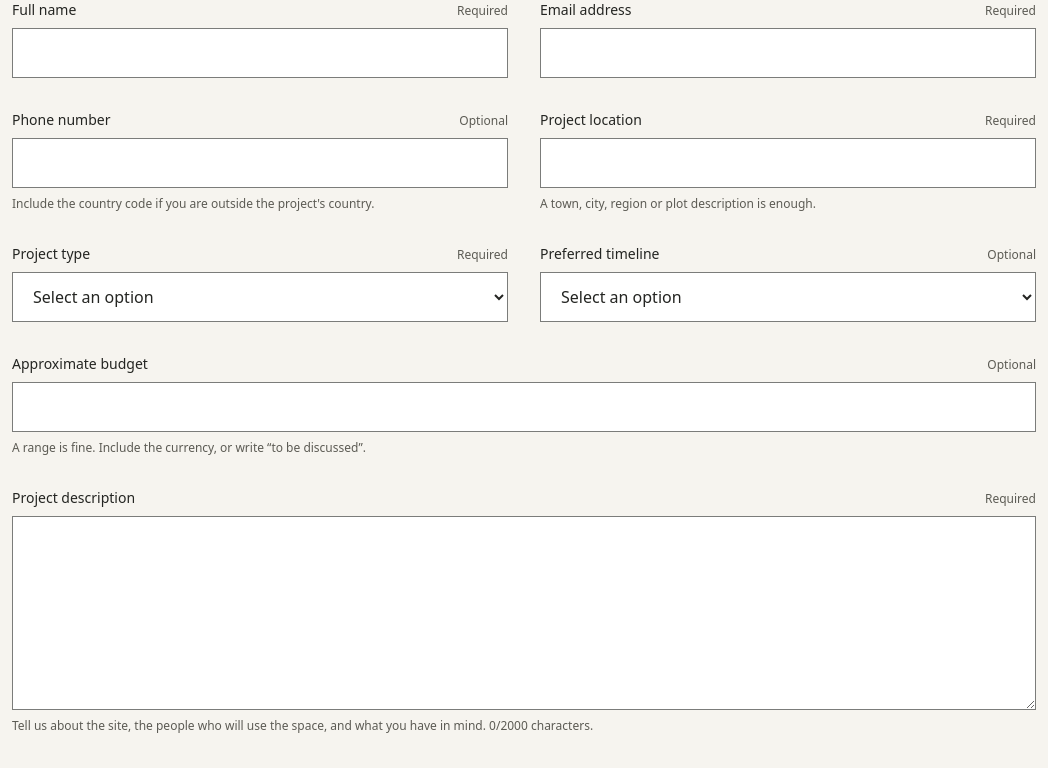
ContactForm with a submission service › reports a network failure honestly
Type "Amina Otieno" into the field labelled "Full name Required". click: [260, 53]
box: [12,28,508,78]
Type "amina@example.com" into the field labelled "Email address Required". click: [788, 53]
box: [540,28,1036,78]
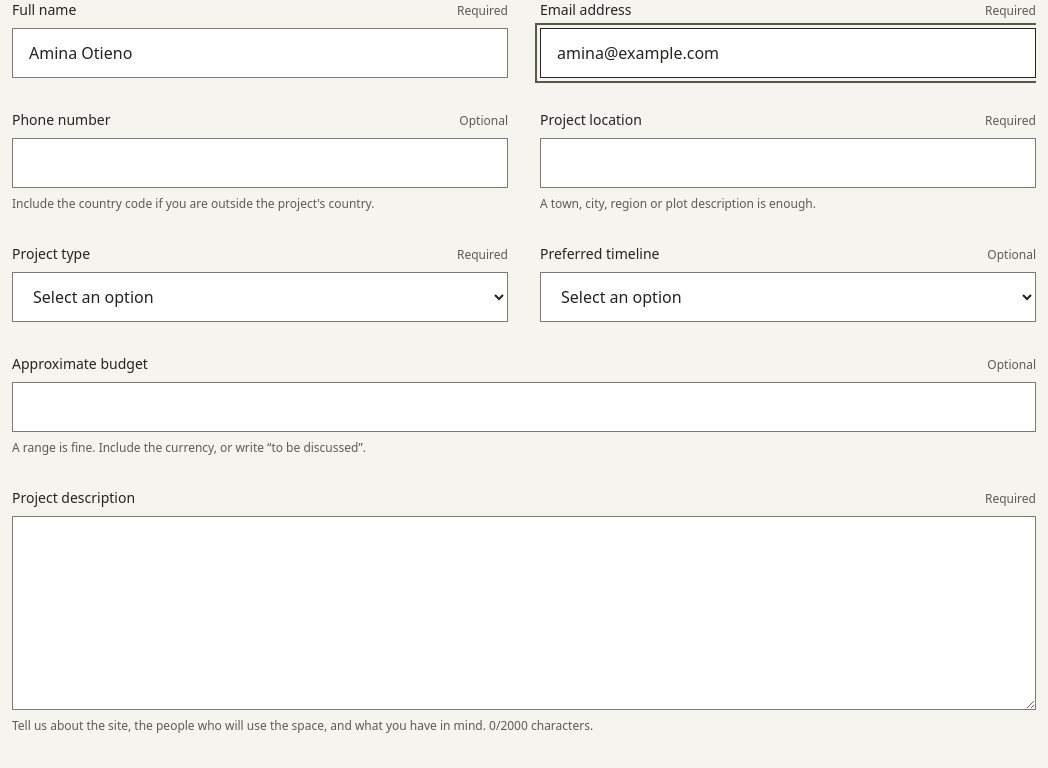
Type "Nairobi" into the field labelled "Project location Required". click: [788, 163]
box: [540,138,1036,188]
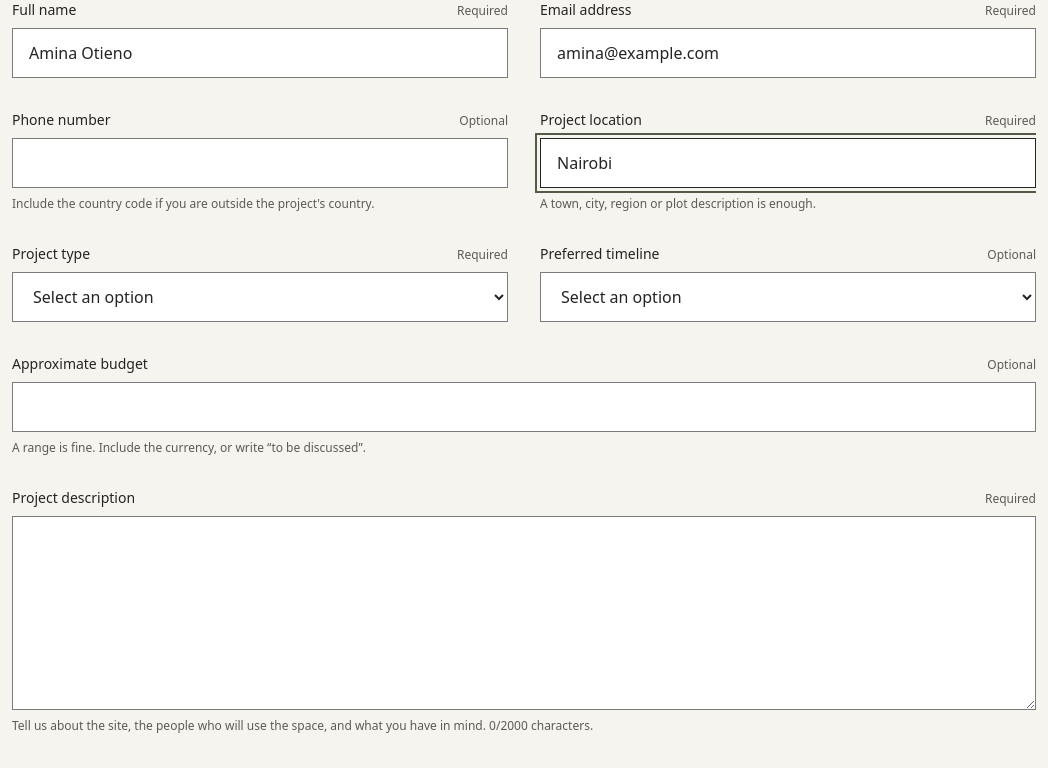
Select "Residential" in the dropdown labelled "Project type Required". click: [260, 297]
box: [12,272,508,322]
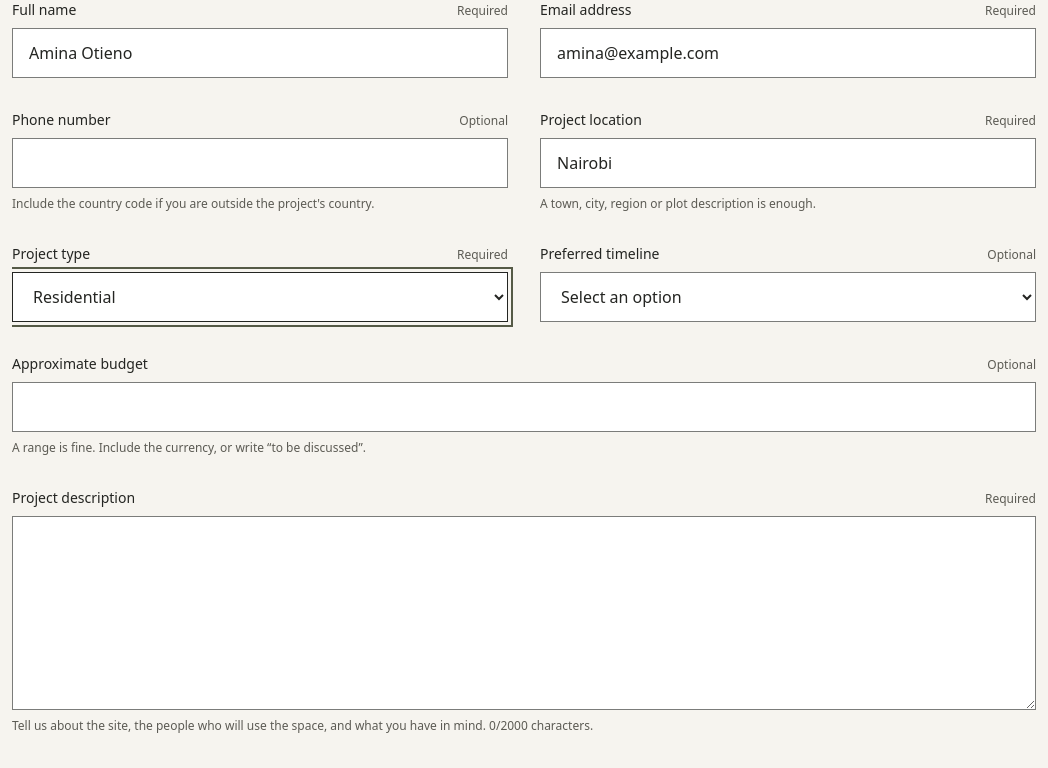
Type "A family home on a gently sloping plot." into the text box labelled "Project description Required". click: [524, 613]
box: [12,516,1036,710]
(page scrolled)
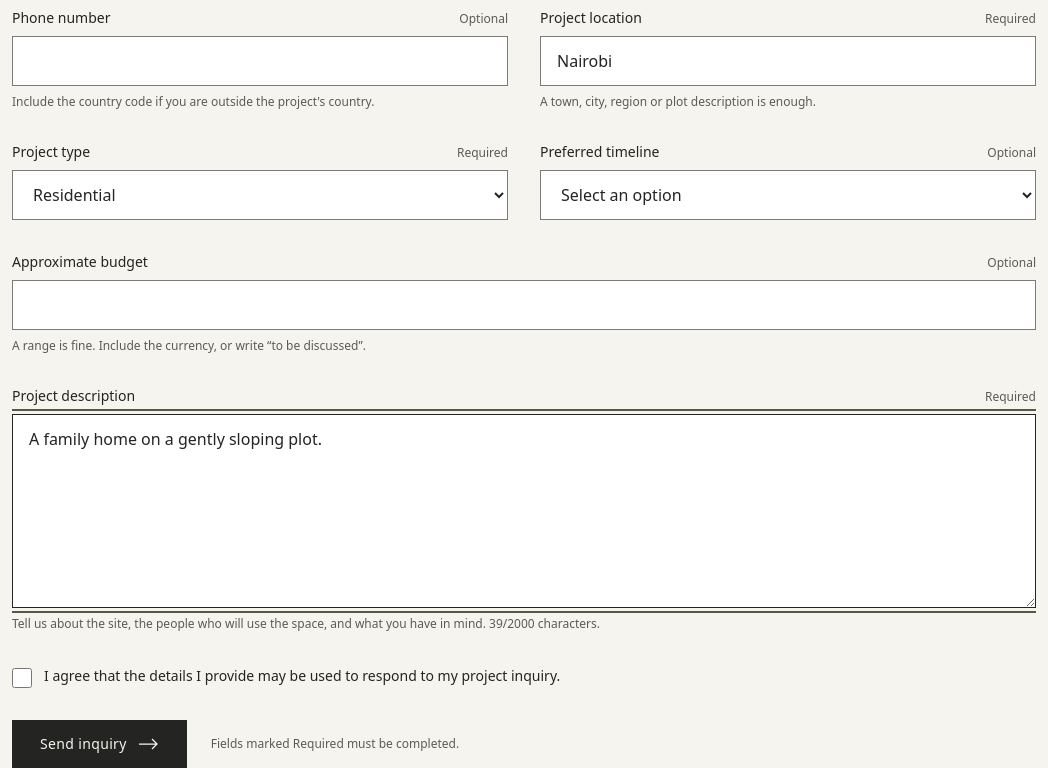
Click the checkbox labelled "I agree". click: [22, 678]
box: [12,668,32,688]
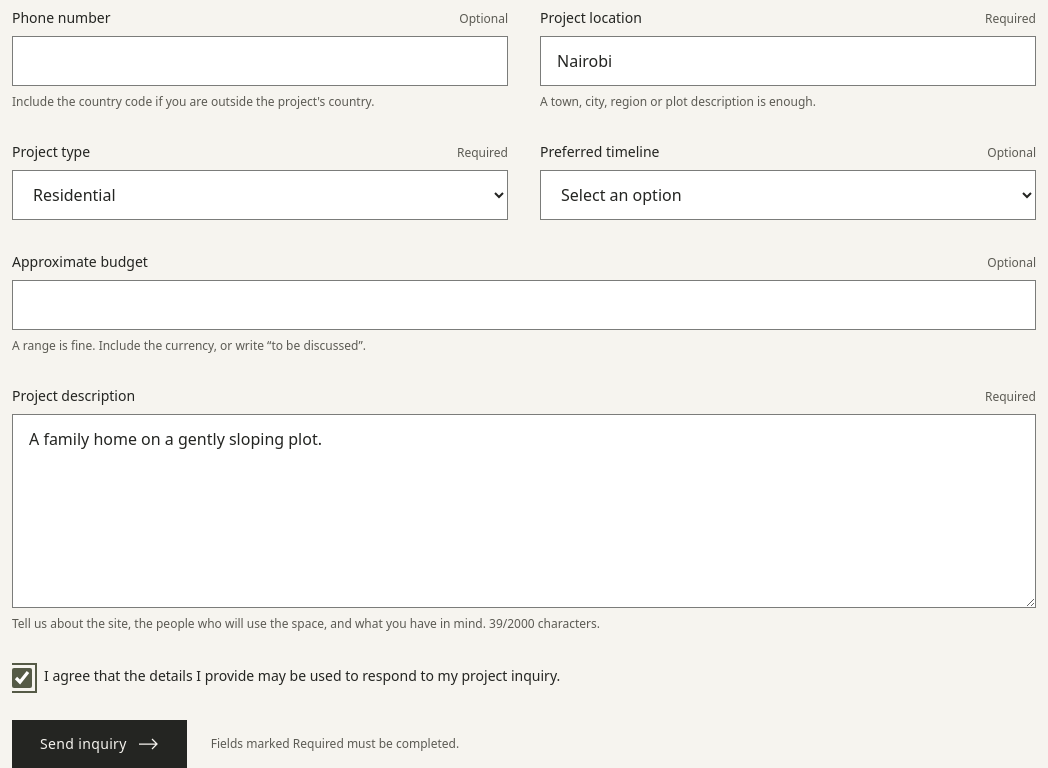
Click the button "Send inquiry". click: [99, 744]
box: [12,720,187,767]
(page scrolled)
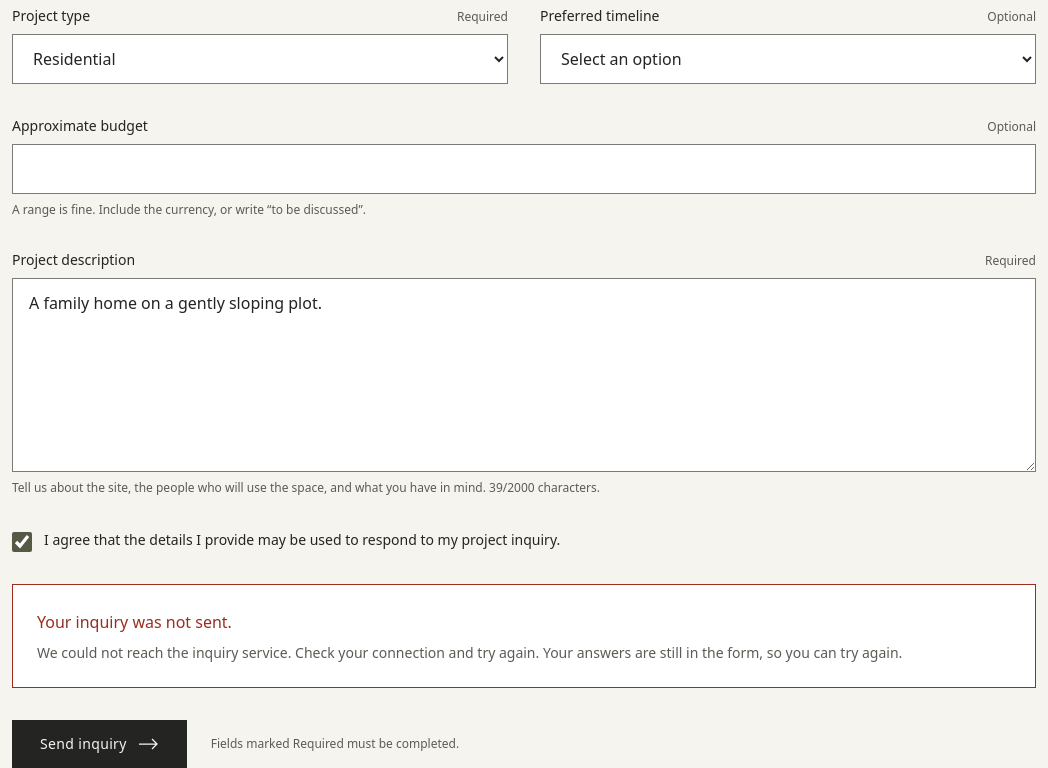
Check: the text "could not reach the inquiry service" is shown, box [37,643,539,662]
